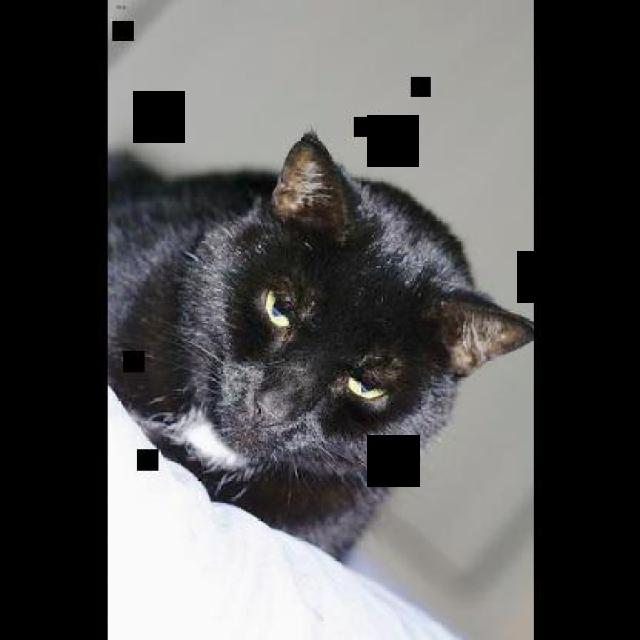unauthorized: (106, 128, 534, 563)
